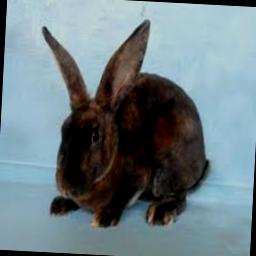rabbit: (42, 19, 208, 225)
